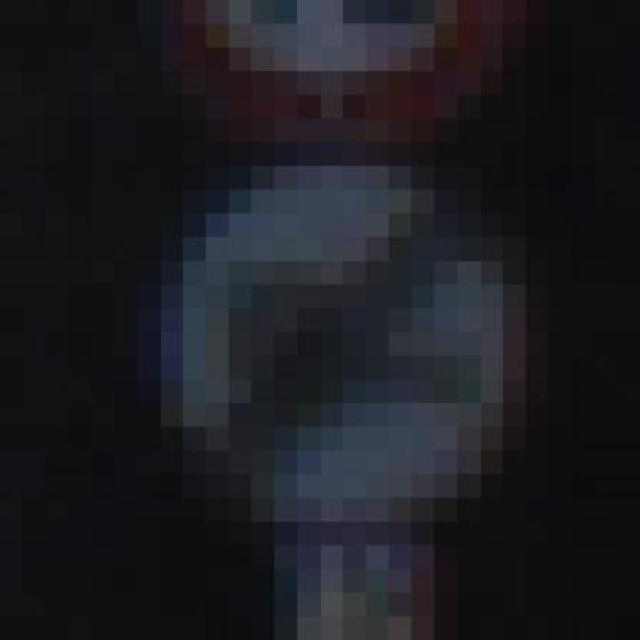Overtaking by trucks is prohibited: (91, 142, 594, 569)
